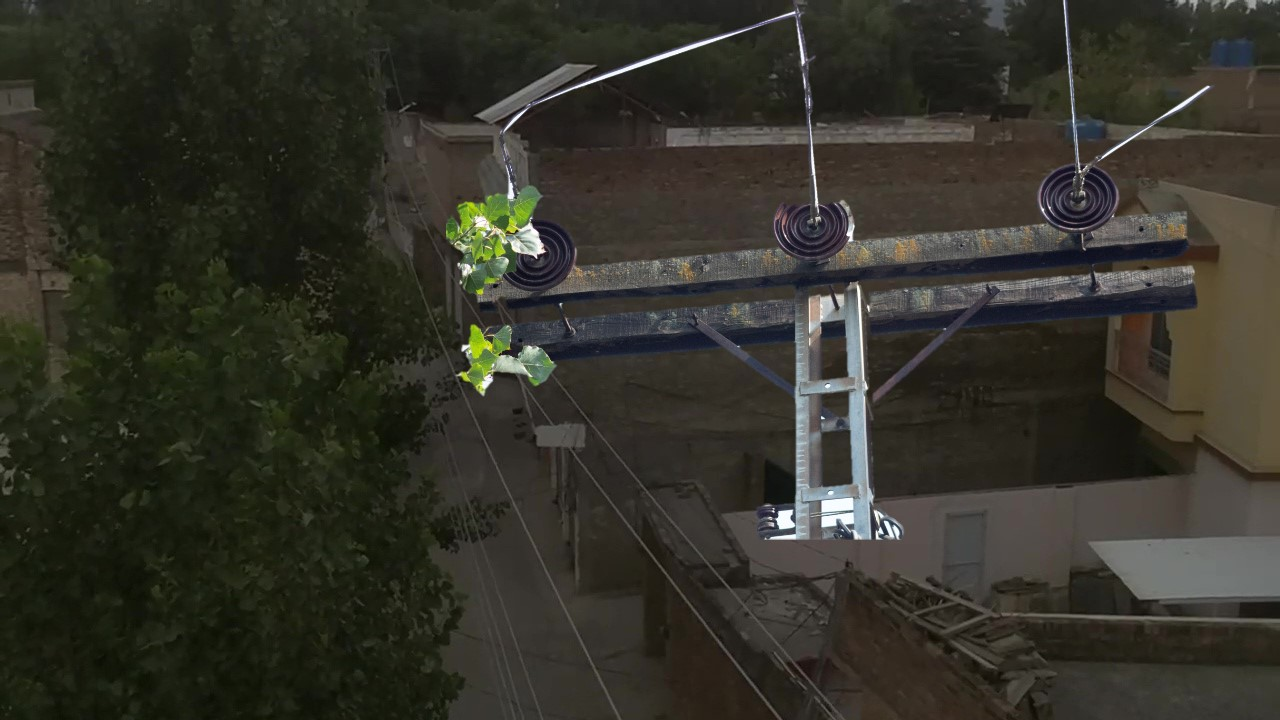defect_disc: (770, 188, 862, 262)
insulator_disc: (1033, 160, 1124, 241), (510, 214, 584, 289)
